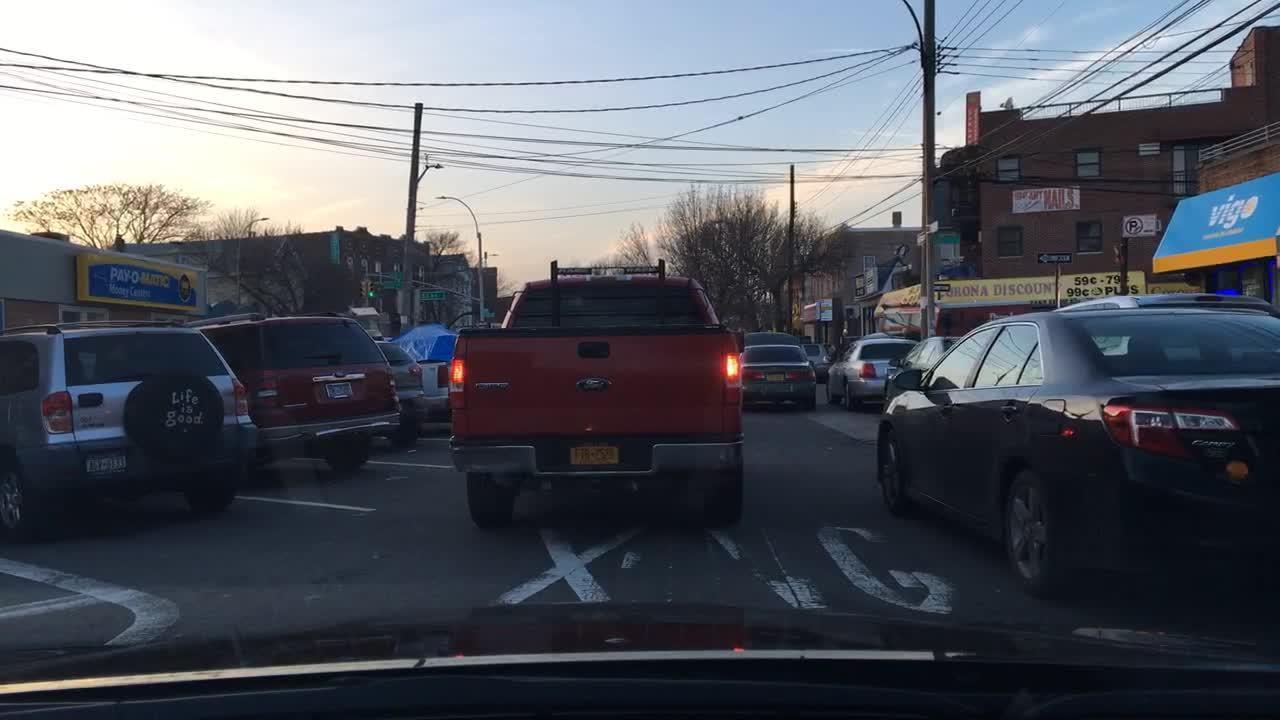ford: (572, 373, 615, 398)
